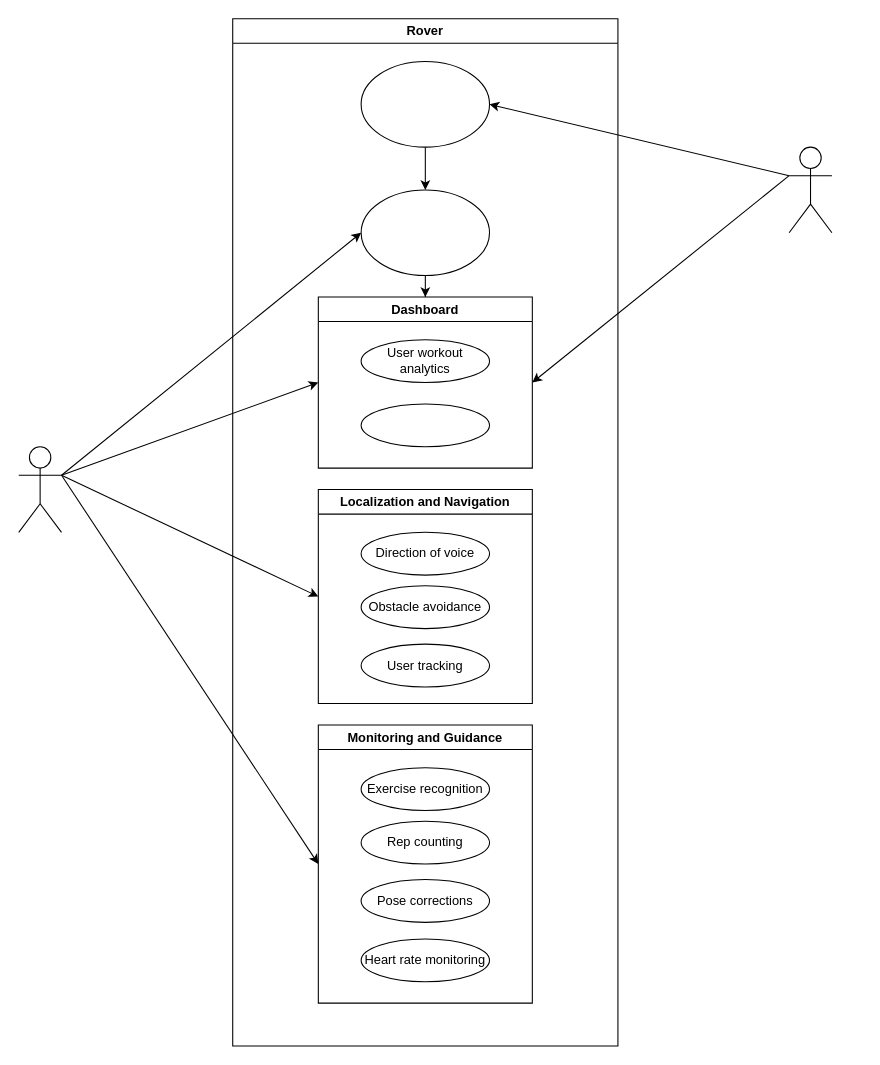
This 880x1065 diagram has some shape labels left out. Here are the shapes that lost their labels. From the top down, the centre of each, then its label:
At [425,103]: "Multiple users (User's data and Id)".
At [810,189]: "Admin (Server manager)".
At [425,232]: "User sign in (Face recognition)".
At [425,425]: "Workout tutorial access".
At [40,489]: "User".
